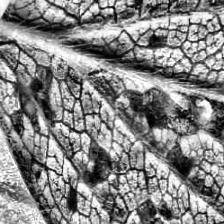Angular Leafspot: (4, 0, 224, 224)
